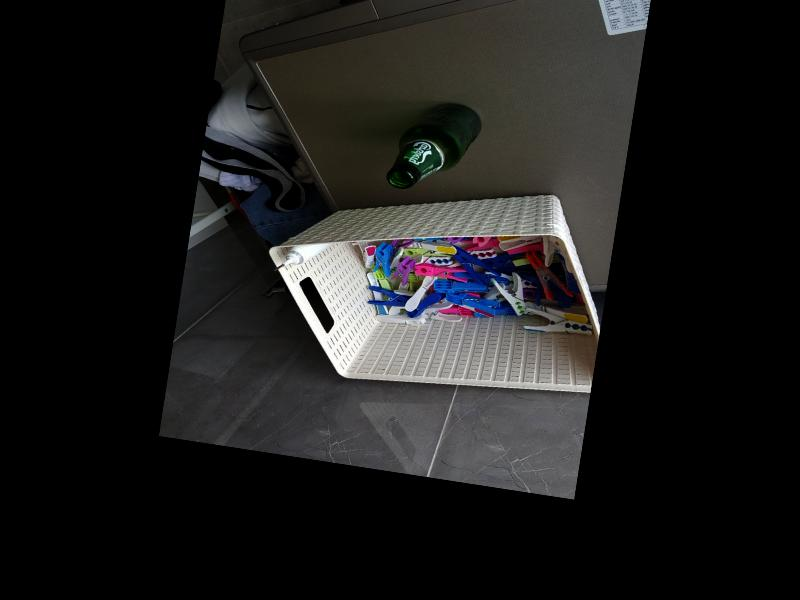Beer: (384, 93, 482, 197)
